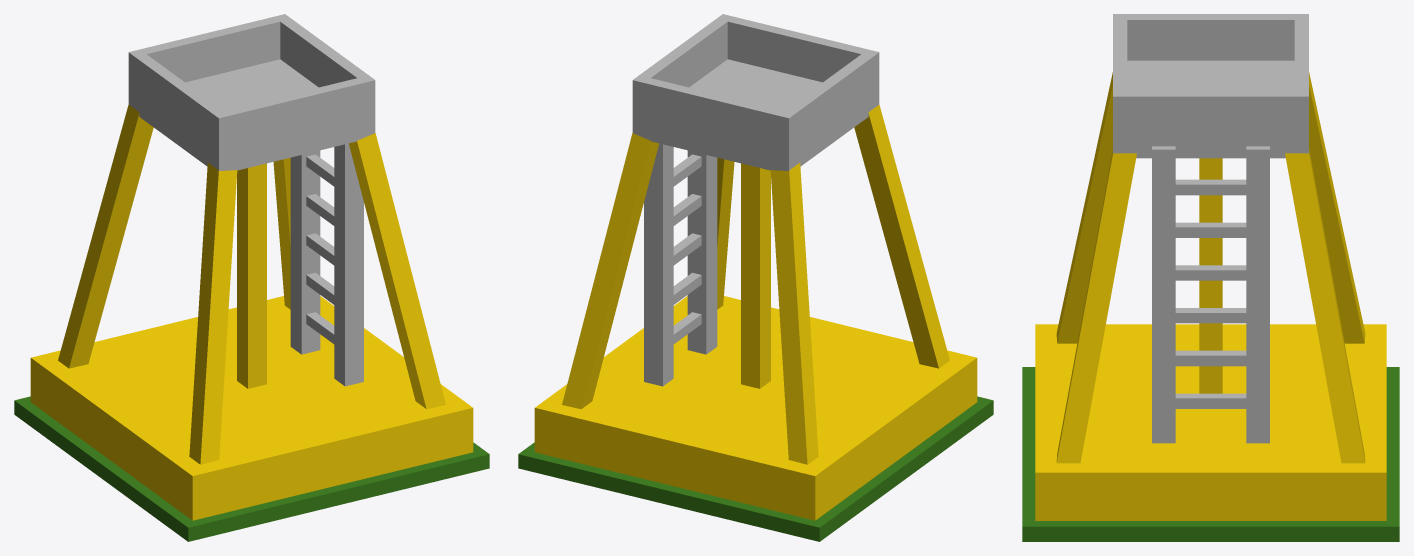
File: lvl23.glb
3 views of the same model, side by side, from view 1: azimuth 30°, elevation 25°; view 2: azimuth 150°, elevation 25°; view 3: azimuth 270°, elevation 25° (orthographic). The views are drawn at different scales.
Visible parts, largest first — view 1: Plane.022; view 2: Plane.022; view 3: Plane.022.
Part boxes in pixels (bbox=[...]): Plane.022: bbox=[14, 14, 489, 541]; Plane.022: bbox=[518, 14, 993, 541]; Plane.022: bbox=[1022, 14, 1399, 541].
Size of the model in its own units: 4 by 4.76 by 4.
